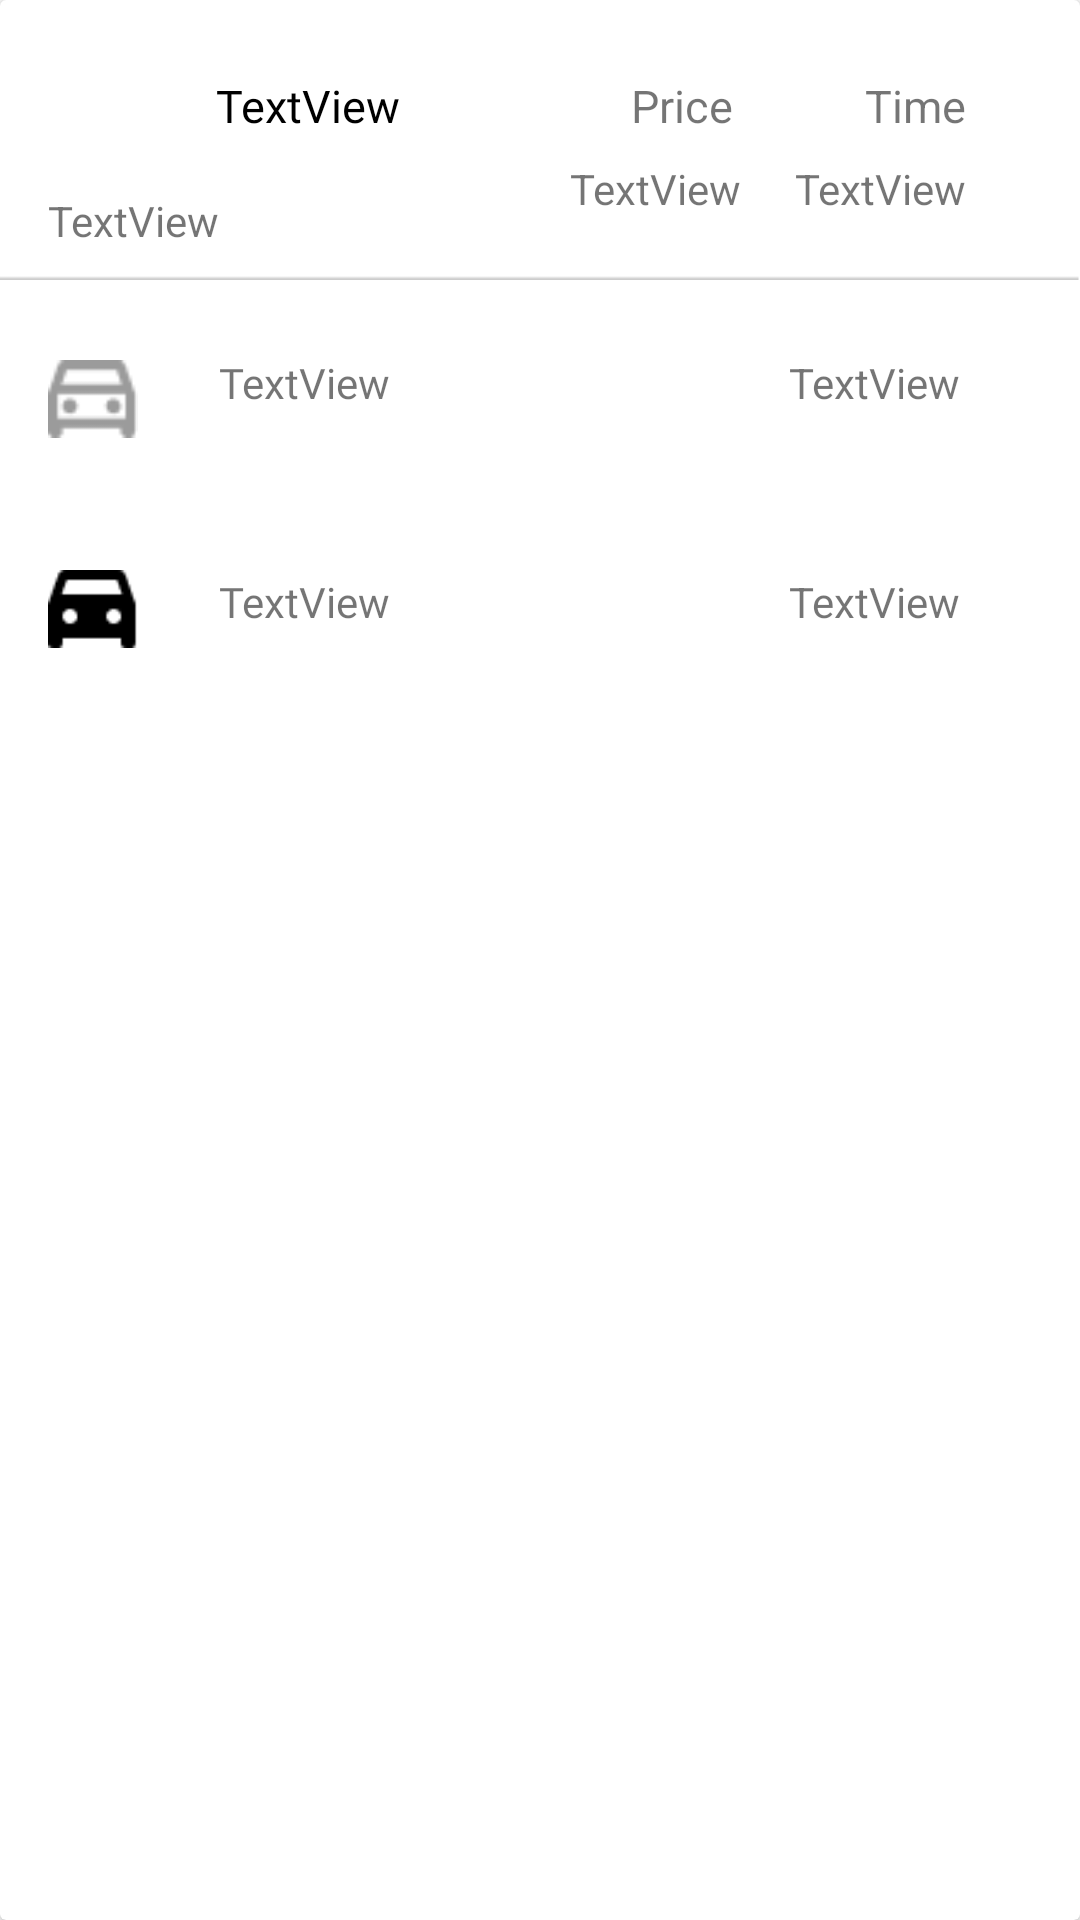

Named icons in this screenshot (1080x1920) and their bounding boxes, {"left": x1, "top": y1, "right": x2, "bottom": y2}:
cars: {"left": 48, "top": 360, "right": 136, "bottom": 438}
minicar: {"left": 48, "top": 570, "right": 137, "bottom": 648}
